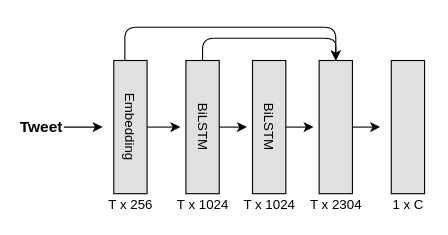
The diagram is 448 pixels wide and 235 high, and some of its shapes have lost their labels. Here are the shapes that lost their labels. From the top down, the box of each, then its label:
(318, 59, 352, 194): Attention
(390, 59, 425, 194): Softmax
